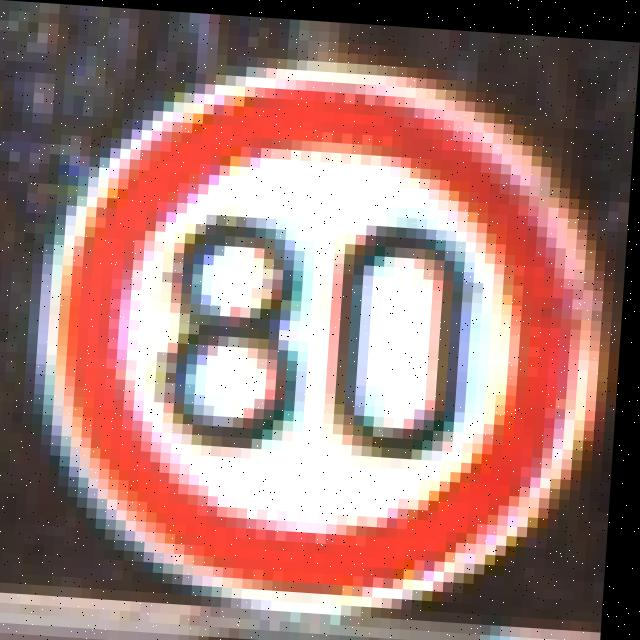speed_limit_80: (21, 63, 608, 629)
